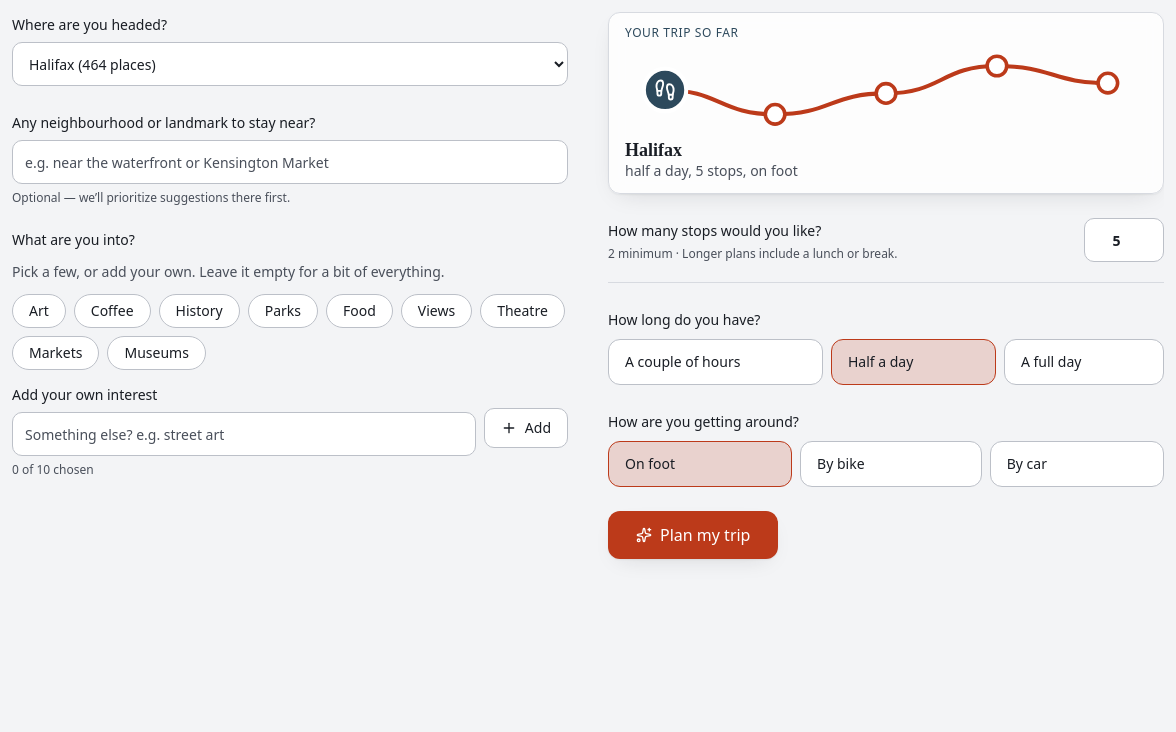
Test case: PlanForm feedback › tells the person when an interest is already on the list, and clears once they edit
The width and height of the screenshot is (1176, 732).
Click the button "art" at (39, 311), box [12,294,66,328]
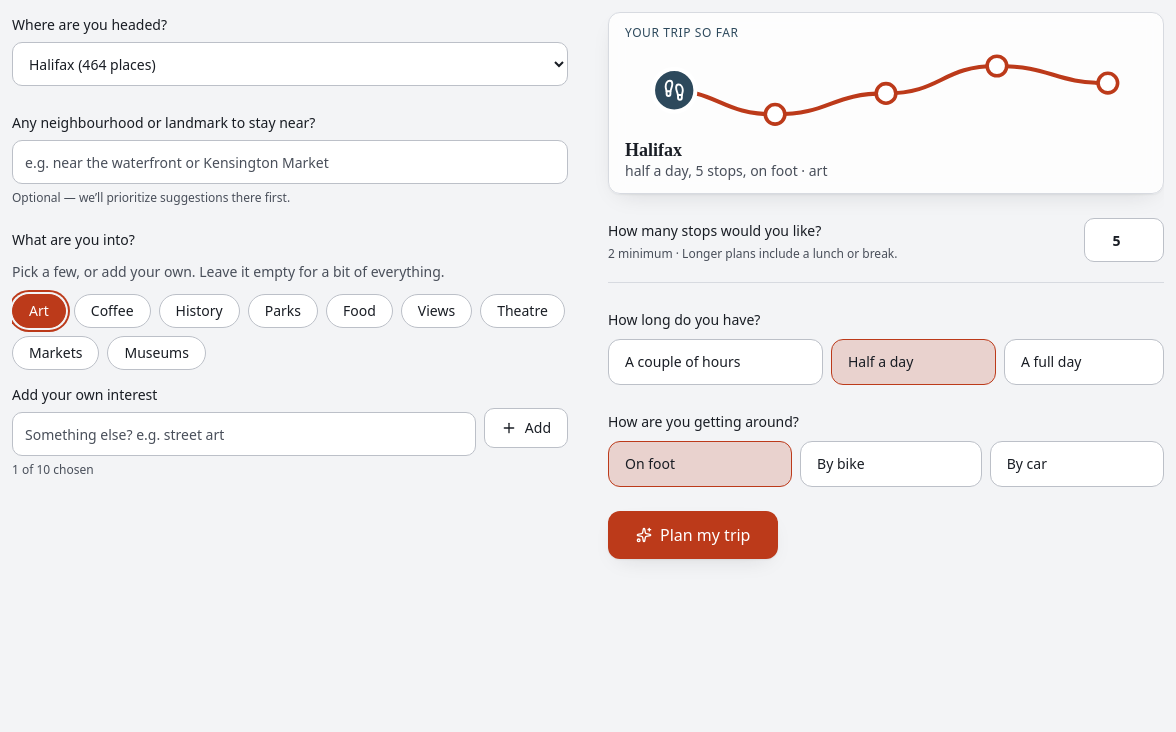
Type "Art" into the field labelled "Add your own interest" at (244, 434), box [12,412,476,456]
Then press Enter
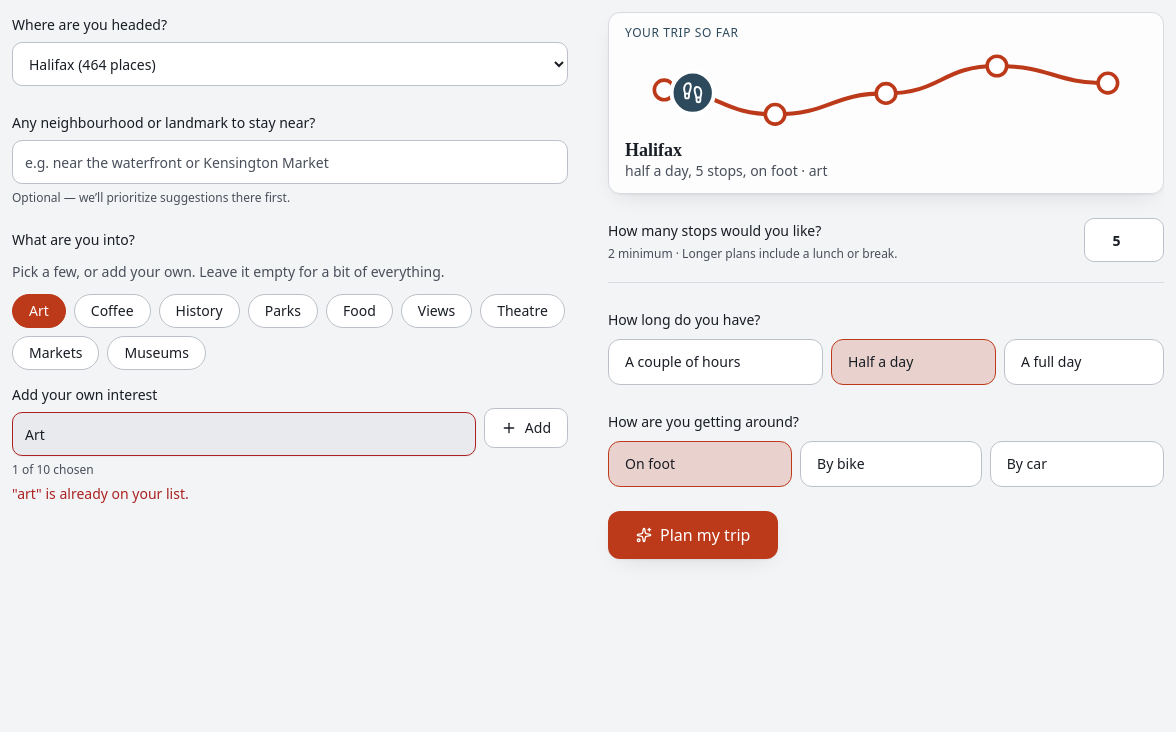
Check: the text "\"art\" is already on your list." is shown, box [12,484,189,503]
Type "x" into the field labelled "Add your own interest" at (244, 434), box [12,412,476,456]
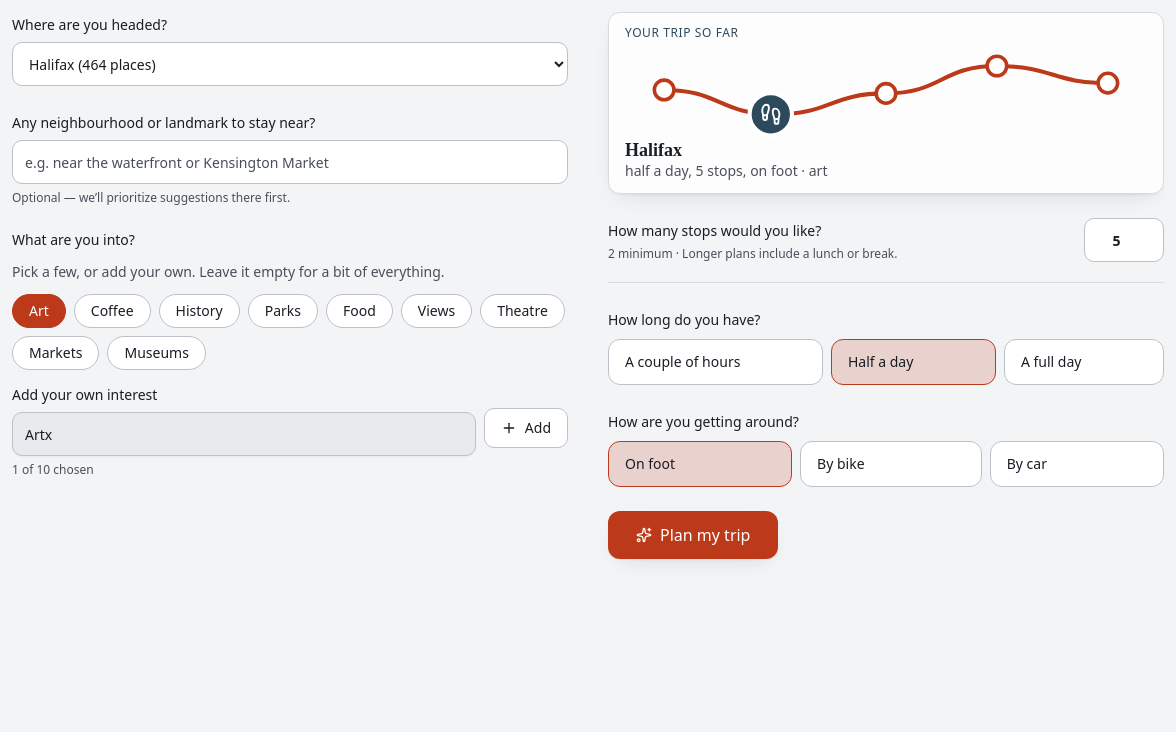
Check: the text "already on your list" is gone
